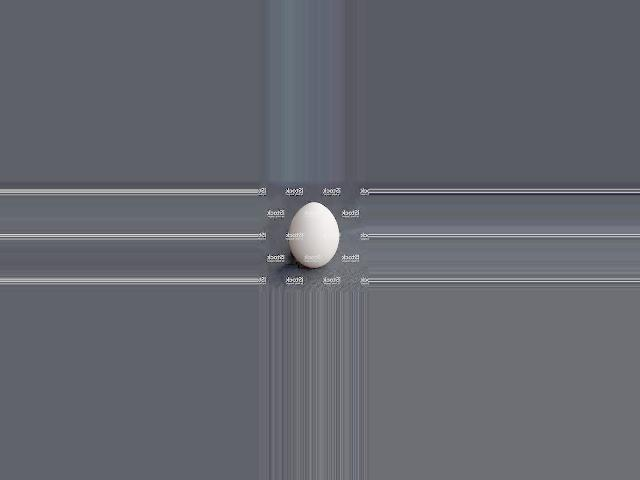egg: (288, 202, 338, 268)
